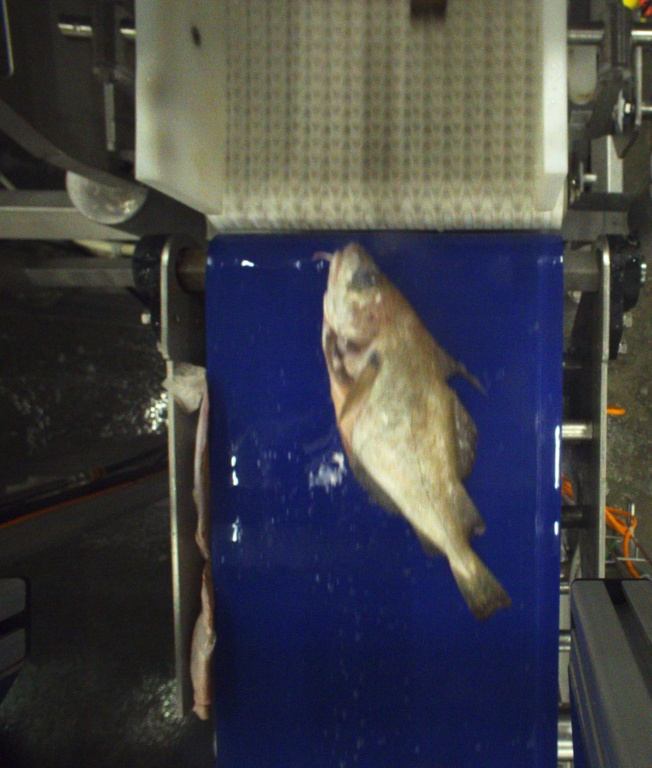BIB: (312, 242, 510, 622)
